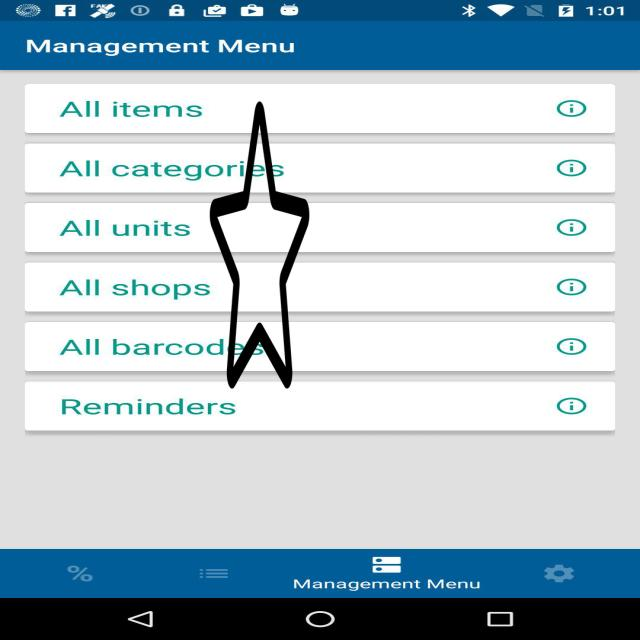forced continuity: (210, 95, 309, 395)
